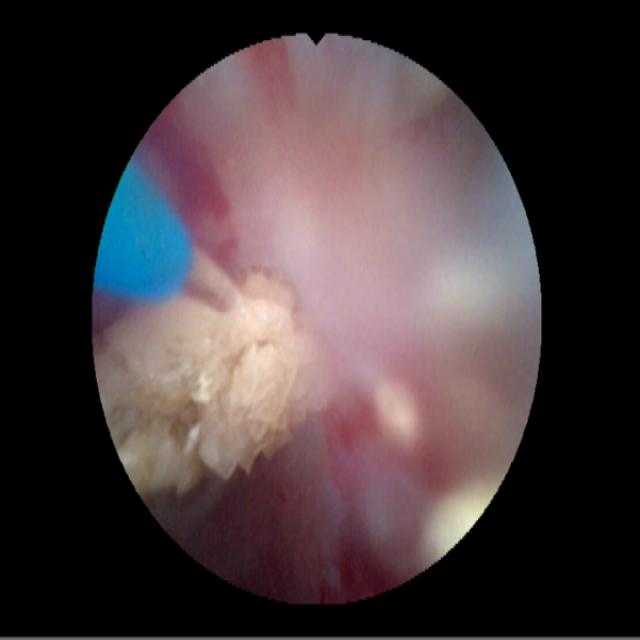fiber: (99, 169, 190, 297)
stone: (98, 274, 329, 495), (423, 477, 494, 565), (375, 381, 420, 445)
